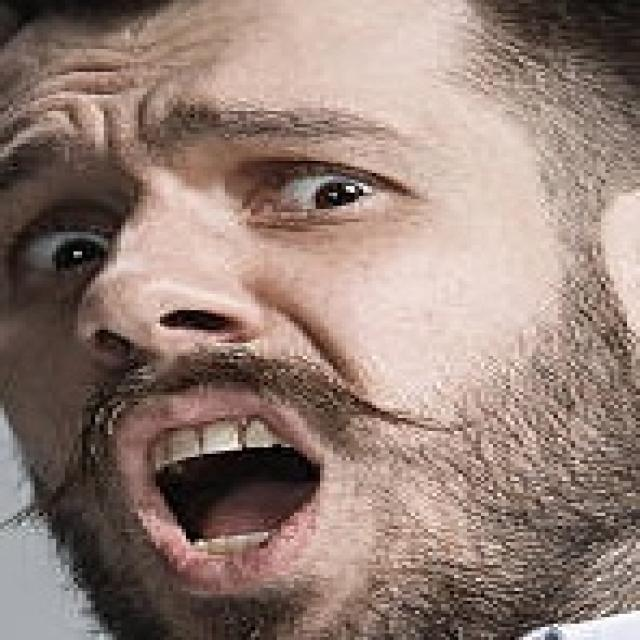Anxiety: (0, 0, 636, 637)
